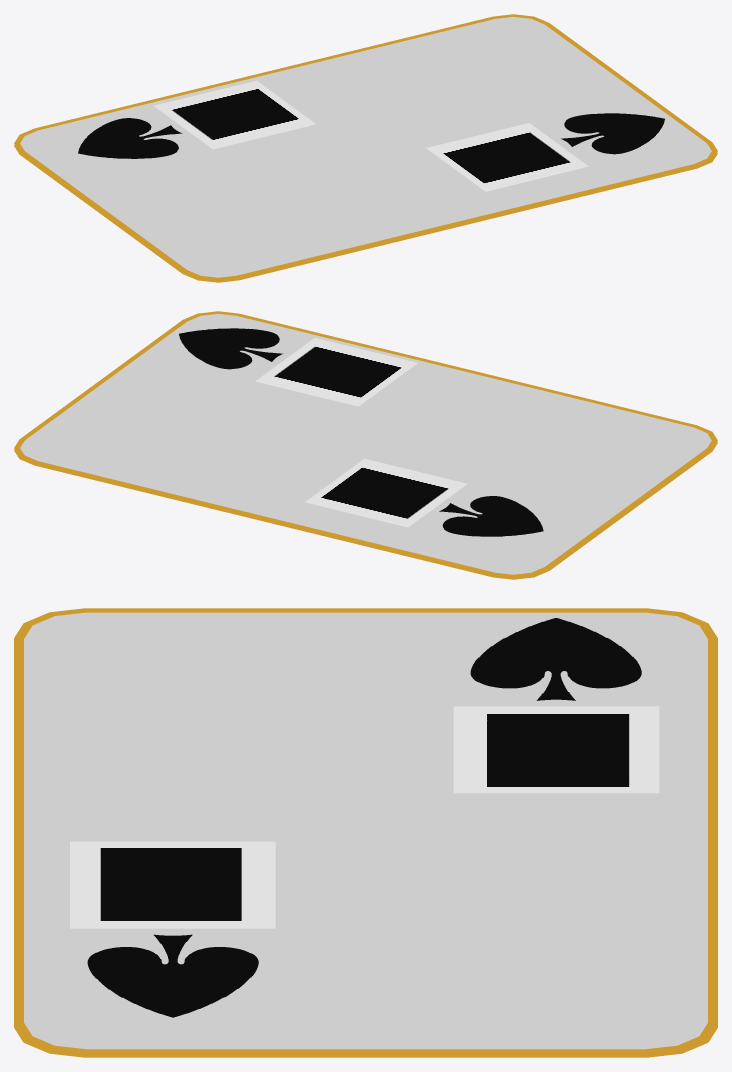
File: Card.fbx
3 renders of one model, top to bottom at view 1: azimuth 30°, elevation 25°; view 2: azimuth 150°, elevation 25°; view 3: azimuth 270°, elevation 25°, orthographic. The views are drawn at different scales.
Visible parts, largest first — view 1: Plane; view 2: Plane; view 3: Plane.
Part boxes in pixels (x1,y1,x2,y2): Plane: (14, 14, 717, 282); Plane: (14, 311, 717, 579); Plane: (14, 608, 717, 1057).
Bounding box in the file's own units: 27.49 × 0.6244 × 18.37.
Materials: 5 (3 with a texture image).
